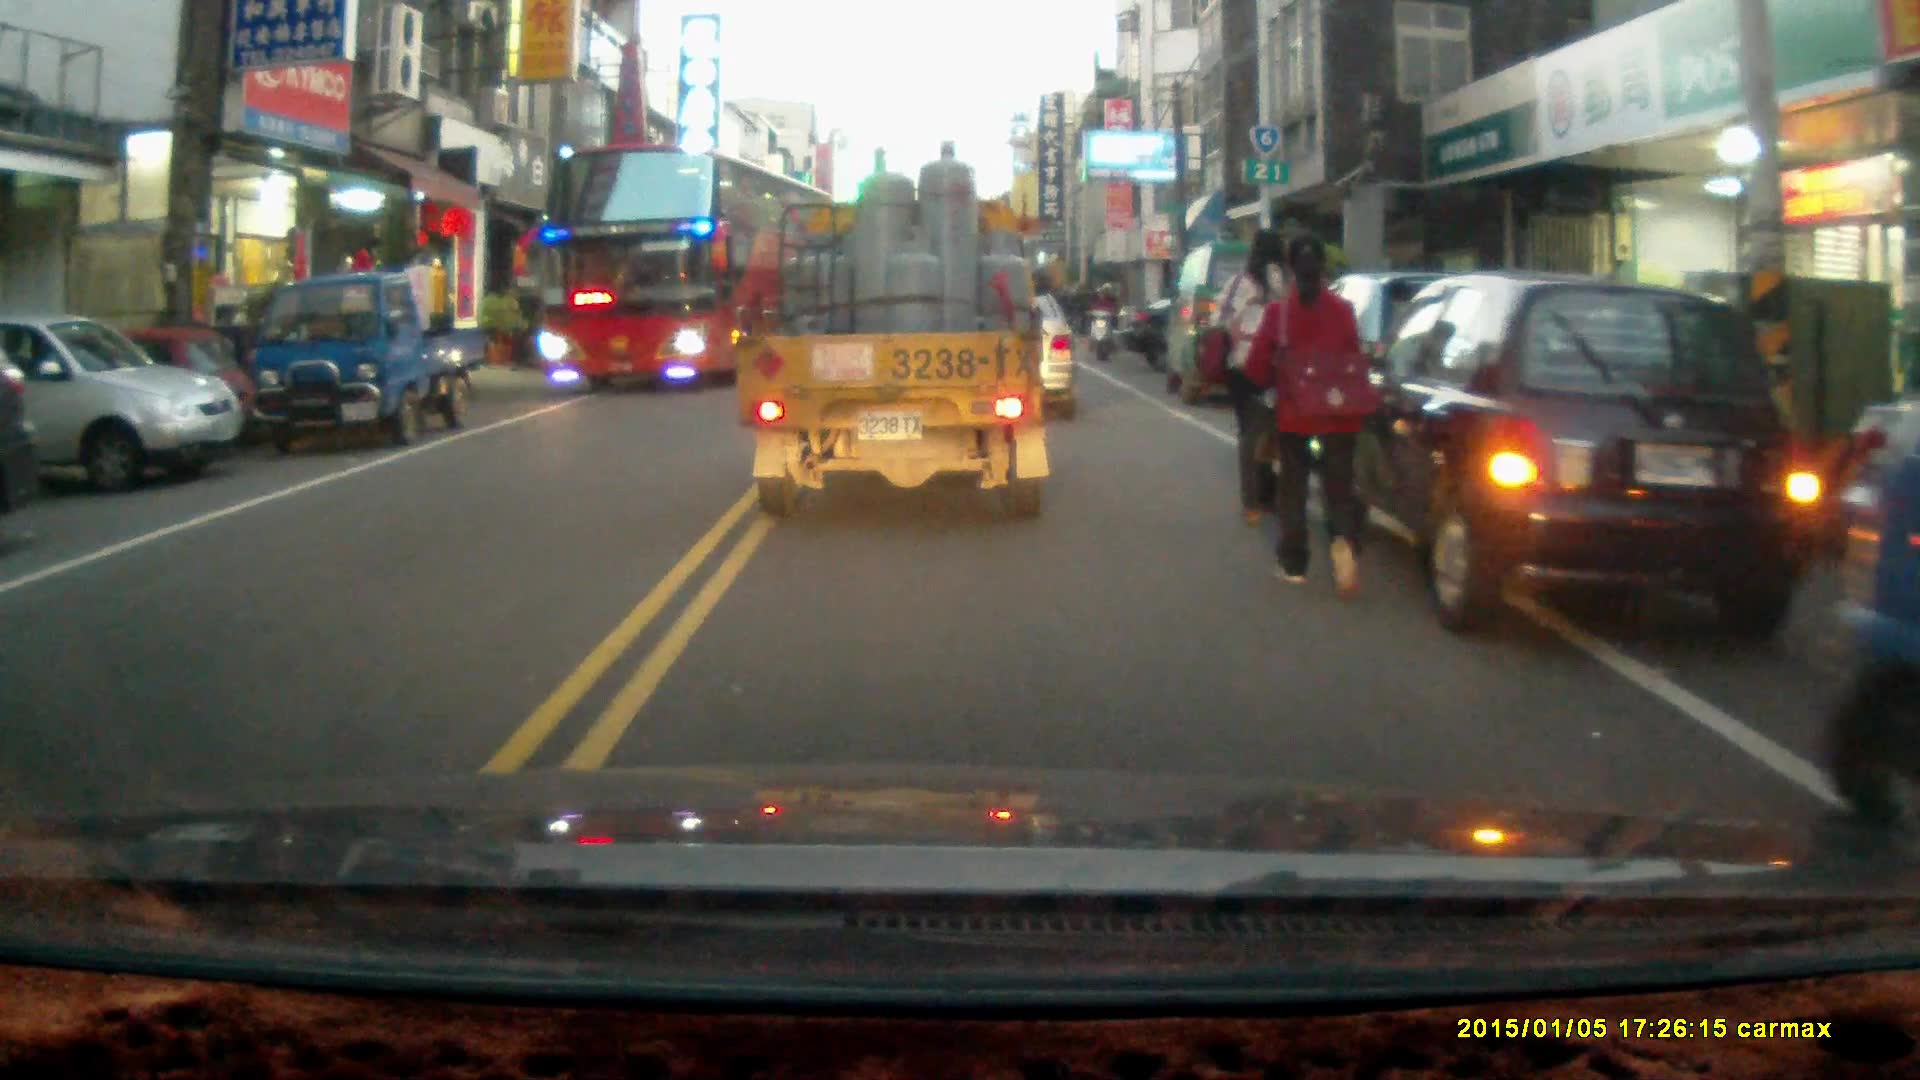pedestrian: (1247, 223, 1376, 599), (1214, 226, 1319, 531)
rider: (1086, 278, 1124, 363)
vehicle: (1332, 271, 1831, 649), (737, 142, 1059, 528), (535, 141, 836, 399), (1, 313, 244, 500), (249, 275, 489, 445)
